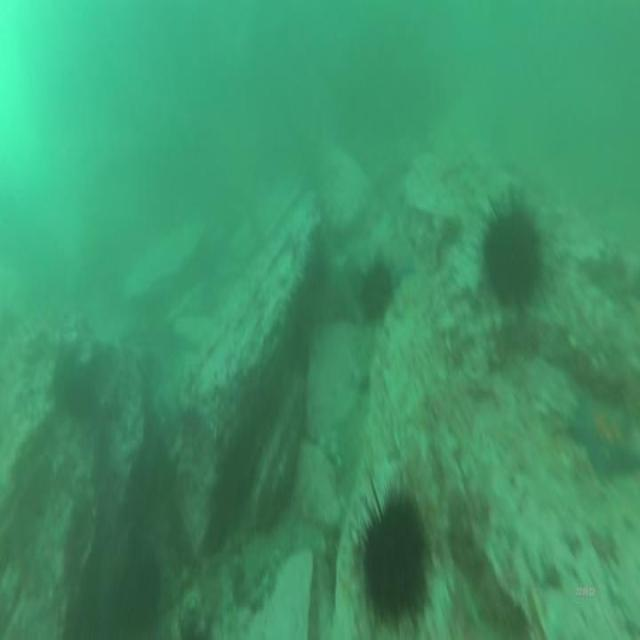echinus: (350, 473, 438, 632), (476, 182, 550, 324), (356, 247, 396, 331)
starfish: (564, 379, 640, 493)
